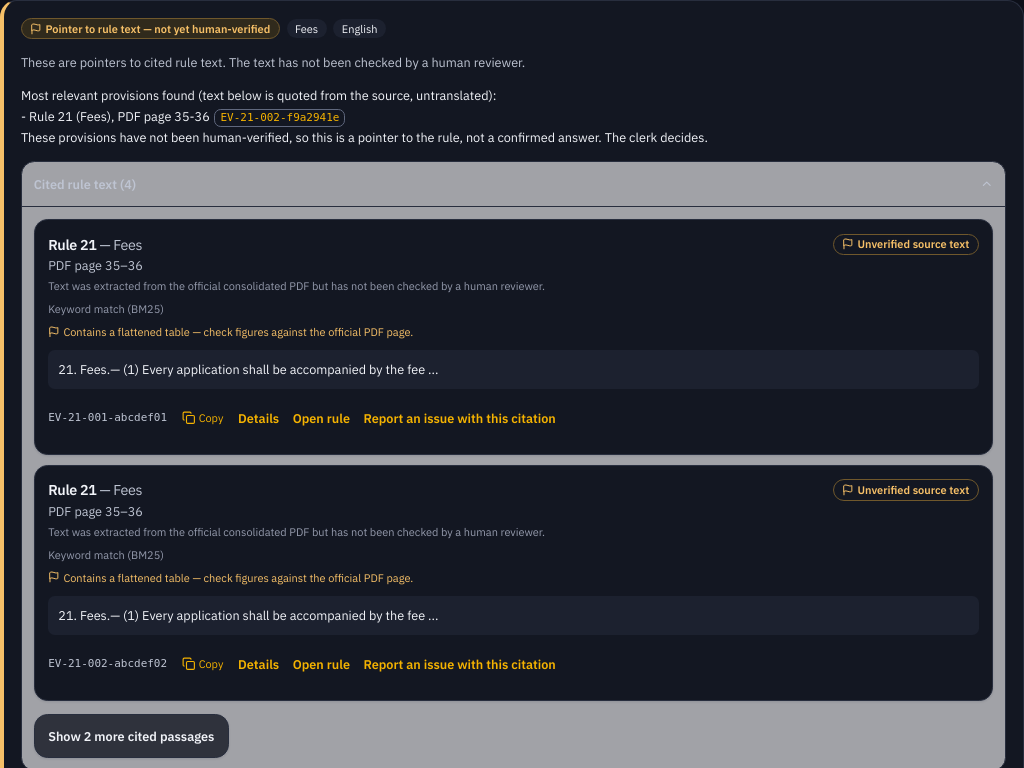
Test: Answer card evidence › shows the best two cited passages first and the rest on request
The image size is (1024, 768).
Expected: the number of elements "Rule 21" is 2, [34, 219, 993, 455]; [34, 465, 993, 700]
Click the button "Show 2 more cited passages" at (131, 736), box [34, 714, 229, 758]
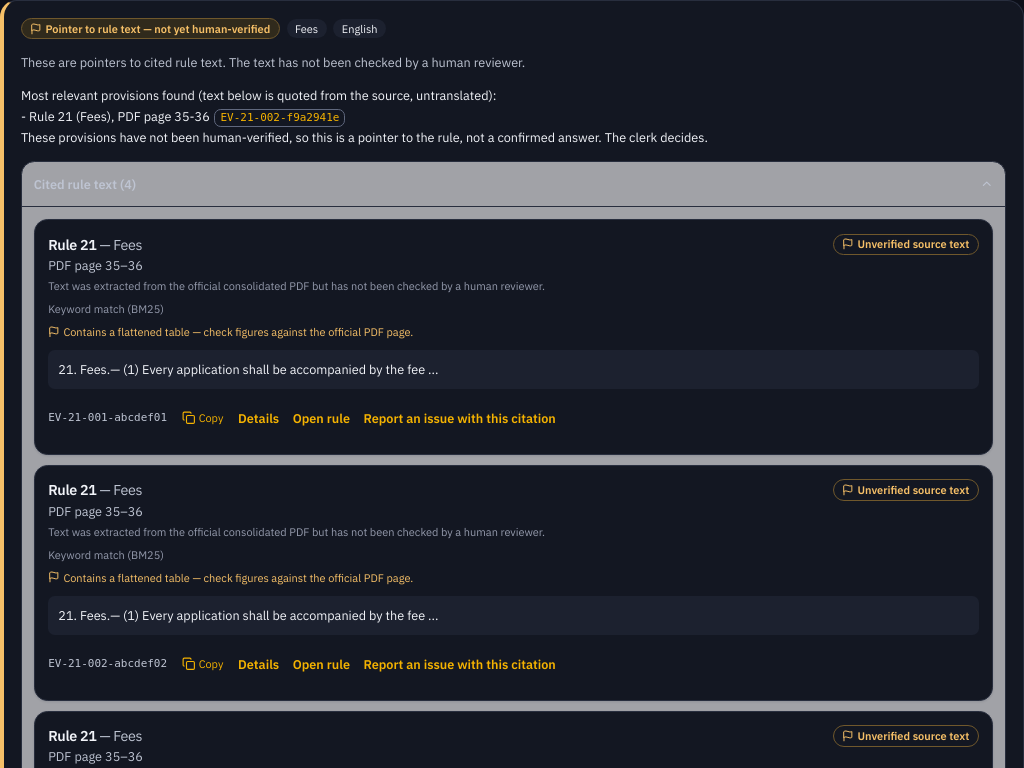
Expected: the number of elements "Rule 21" is 4
Expected: the button "more cited passages" is gone
